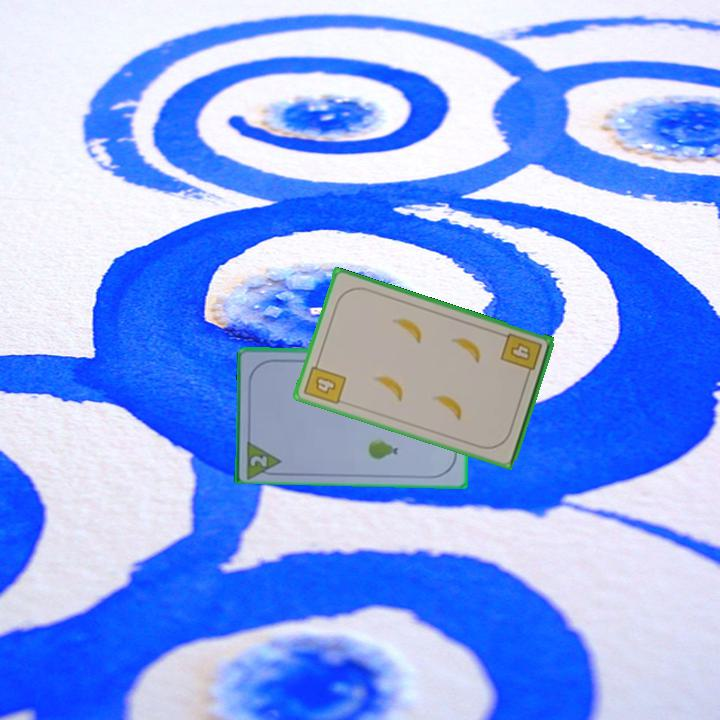2p: (246, 452, 270, 471)
4b: (300, 356, 349, 408), (497, 330, 545, 381)
